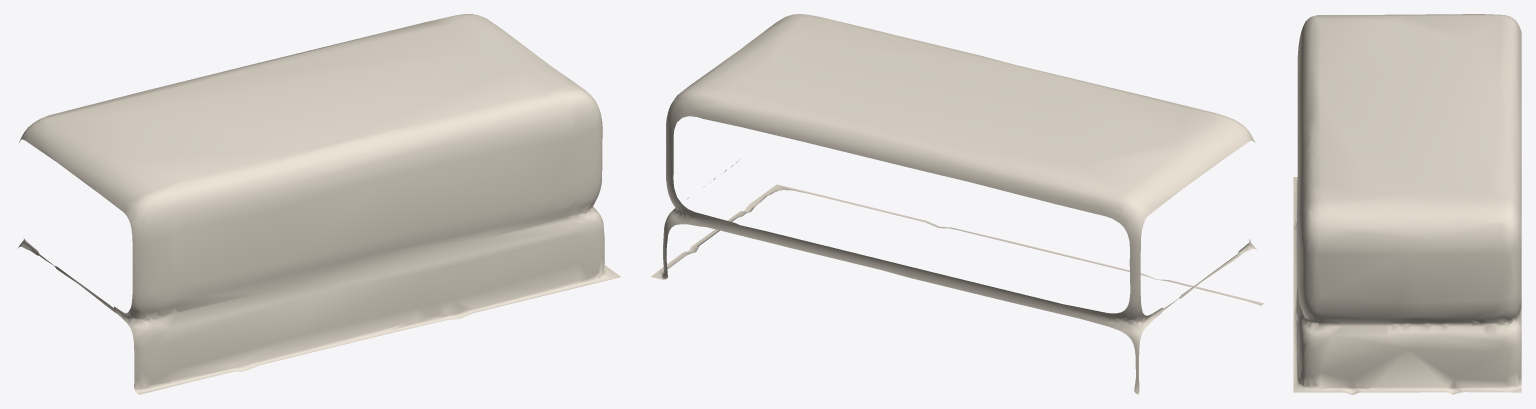
File: show_kitchen_bench.glb
The picture shows the model from 3 angles, left to right: view 1: azimuth 30°, elevation 25°; view 2: azimuth 150°, elevation 25°; view 3: azimuth 270°, elevation 25°; orthographic projection. The views are drawn at different scales.
Size of the model in its own units: 1.45 by 0.55 by 0.65.
